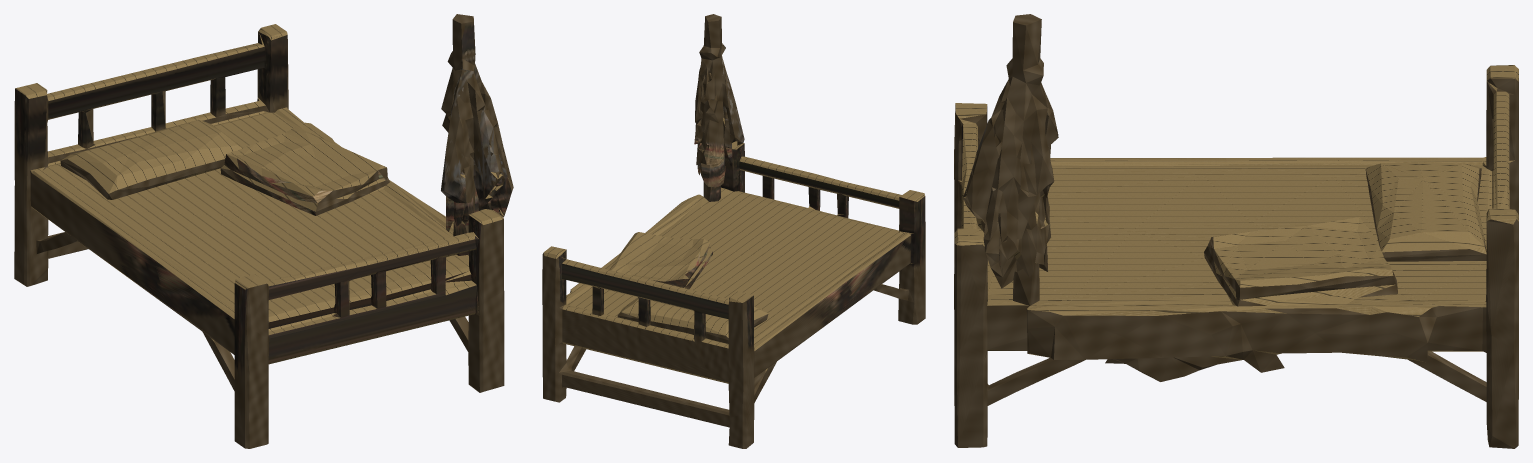
Rendered from wooden_bed_reduced.glb.
The picture shows the model from 3 angles, left to right: view 1: azimuth 30°, elevation 25°; view 2: azimuth 150°, elevation 25°; view 3: azimuth 270°, elevation 25°; orthographic projection. The views are drawn at different scales.
Parts seen in each view (by area): view 1: BedWoodAndMosquitoNet, WornRushMat; view 2: BedWoodAndMosquitoNet, WornRushMat; view 3: WornRushMat, BedWoodAndMosquitoNet.
Boxes of the visible parts, bbox=[...] form: BedWoodAndMosquitoNet: bbox=[14, 14, 513, 448]; WornRushMat: bbox=[15, 24, 512, 364]; BedWoodAndMosquitoNet: bbox=[542, 14, 925, 448]; WornRushMat: bbox=[543, 118, 924, 383]; WornRushMat: bbox=[954, 65, 1518, 361]; BedWoodAndMosquitoNet: bbox=[954, 14, 1518, 448].
Bounding box in the file's own units: 1.38 × 1.64 × 1.99.
2 materials, 2 textured.
